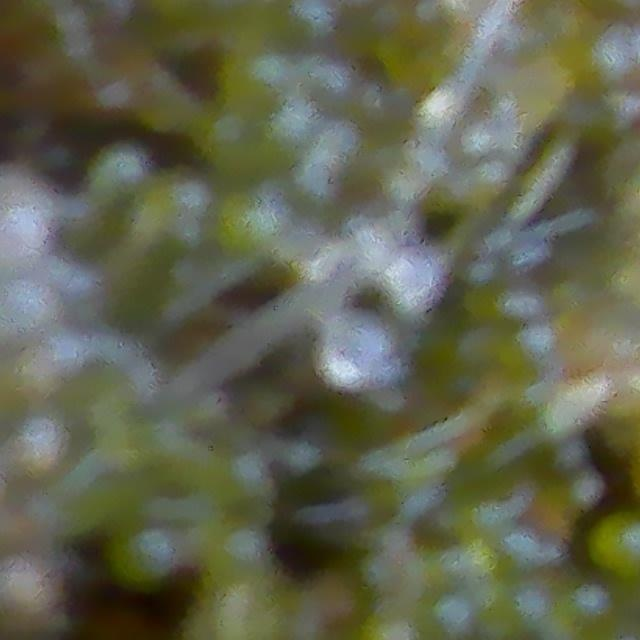SeaGrape: (0, 547, 73, 640), (322, 301, 385, 382), (0, 179, 53, 272), (379, 244, 444, 312), (110, 523, 178, 588), (588, 509, 639, 582), (343, 216, 394, 270), (419, 88, 462, 130)
